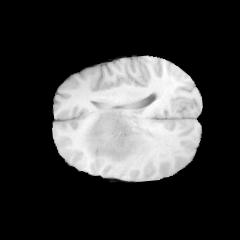glioma: (79, 110, 143, 162)
